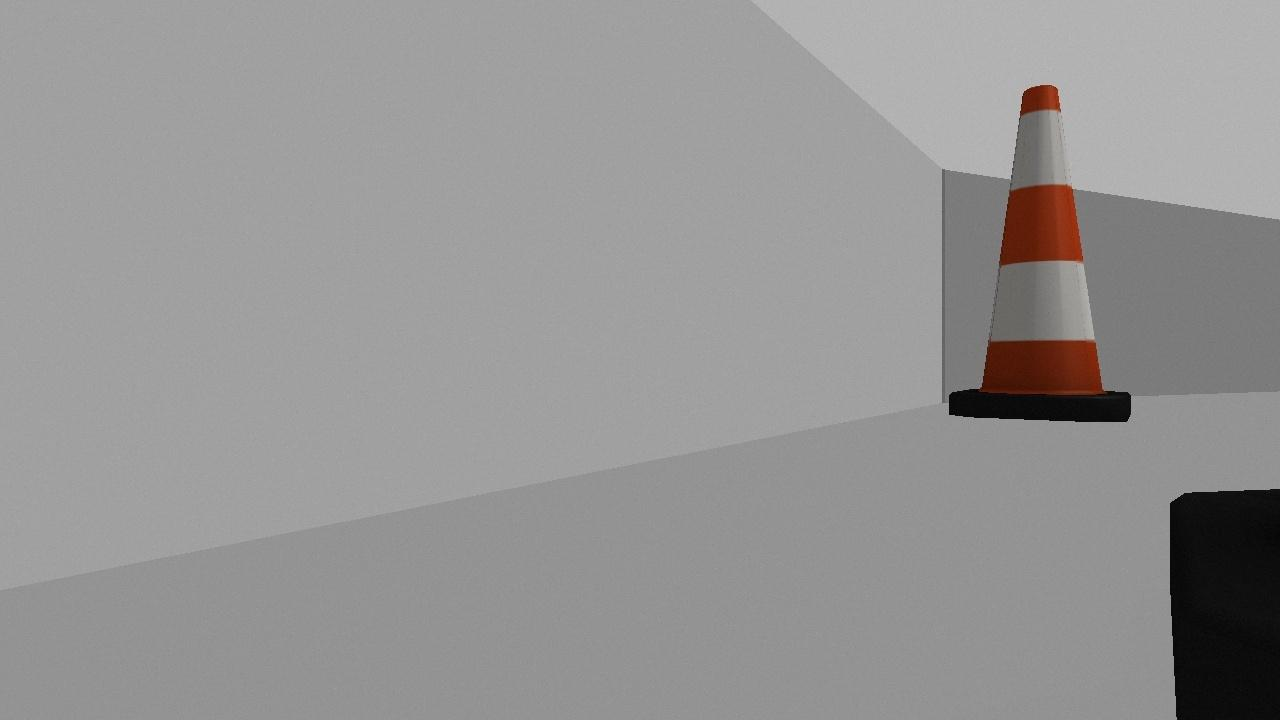cone_barrel: (921, 84, 1155, 440)
